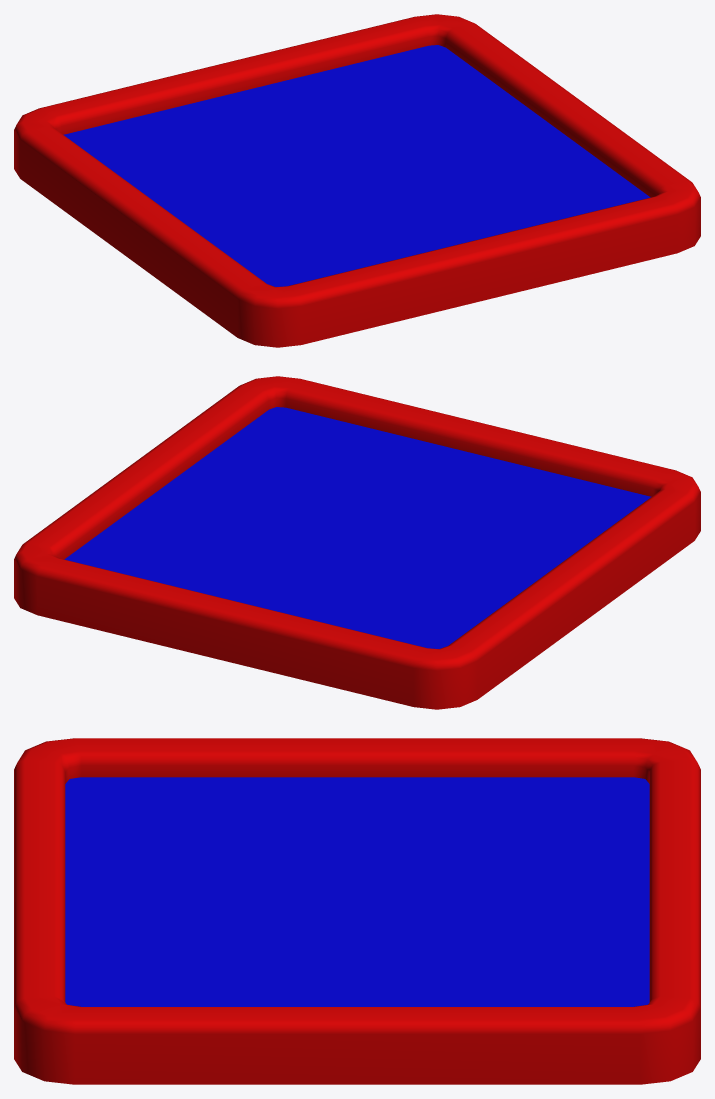
The picture shows the model from 3 angles, top to bottom: view 1: azimuth 30°, elevation 25°; view 2: azimuth 150°, elevation 25°; view 3: azimuth 270°, elevation 25°; orthographic projection. The views are drawn at different scales.
Parts seen in each view (by area): view 1: 2x2; view 2: 2x2; view 3: 2x2.
Boxes of the visible parts, x1,y1,x2,y2 form: 2x2: (14,14,700,347); 2x2: (14,376,700,709); 2x2: (14,738,700,1084).
Bounding box in the file's own units: 400 × 38.86 × 400.
